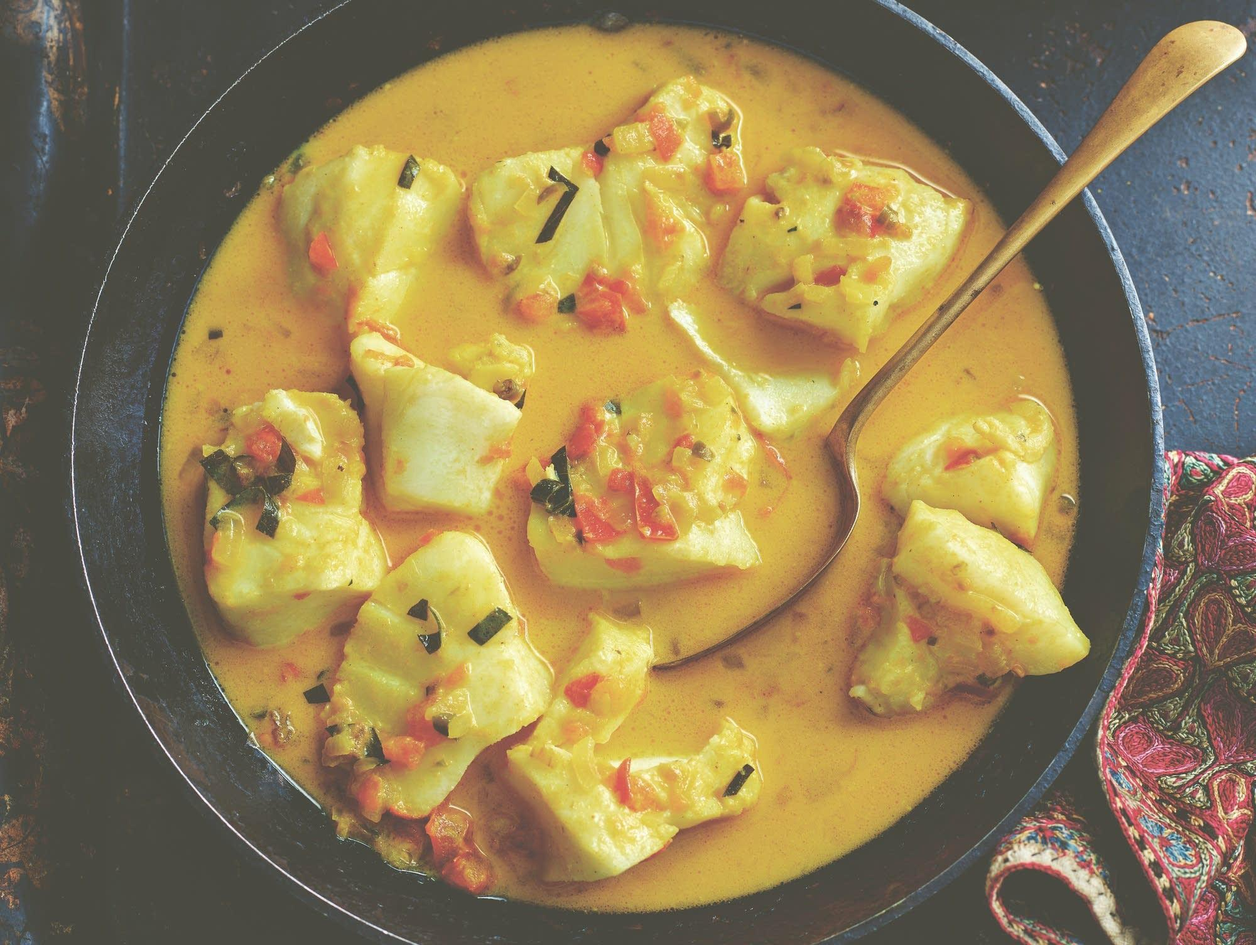FishCurry: (164, 24, 1086, 911)
